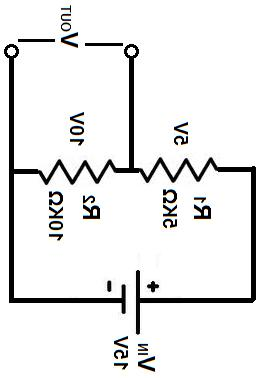resistor: (33, 149, 120, 194), (142, 147, 220, 186)
